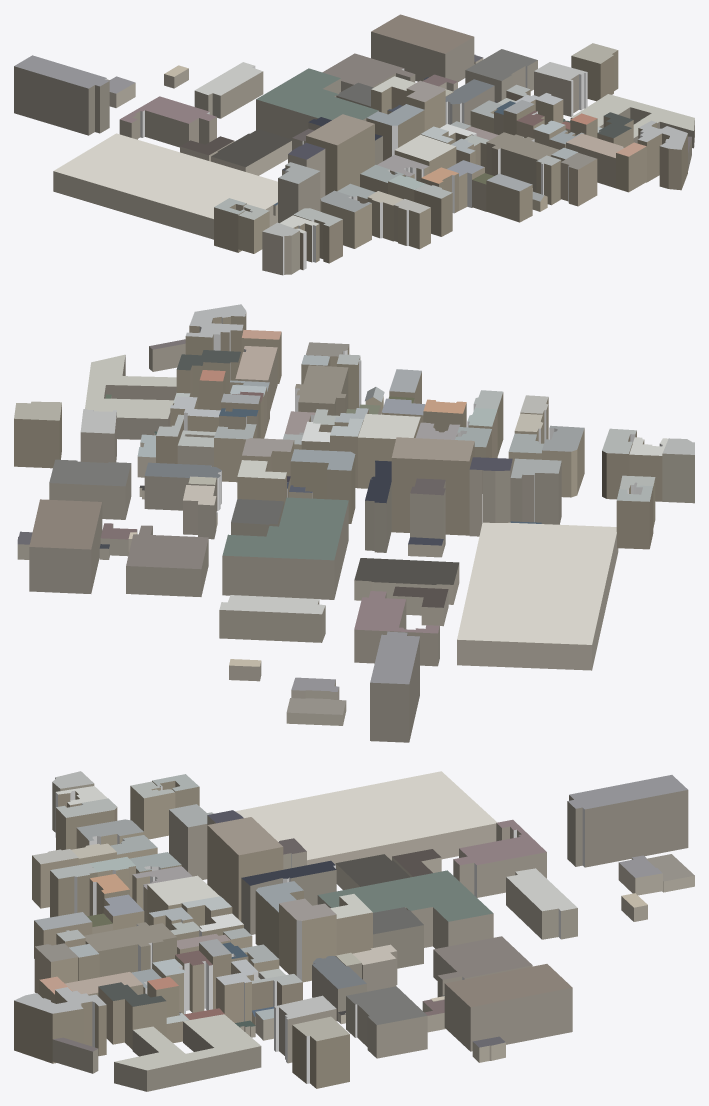
3 views of the same model, one above another, from view 1: azimuth 30°, elevation 25°; view 2: azimuth 150°, elevation 25°; view 3: azimuth 270°, elevation 25° (orthographic). The views are drawn at different scales.
Parts seen in each view (by area): view 1: tuile; view 2: tuile; view 3: tuile.
Boxes of the visible parts, left/top/right/bottom form: tuile: left=14, top=14, right=694, bottom=275; tuile: left=14, top=304, right=694, bottom=742; tuile: left=14, top=771, right=694, bottom=1091.
Bounding box in the file's own units: 299 × 39.61 × 273.
